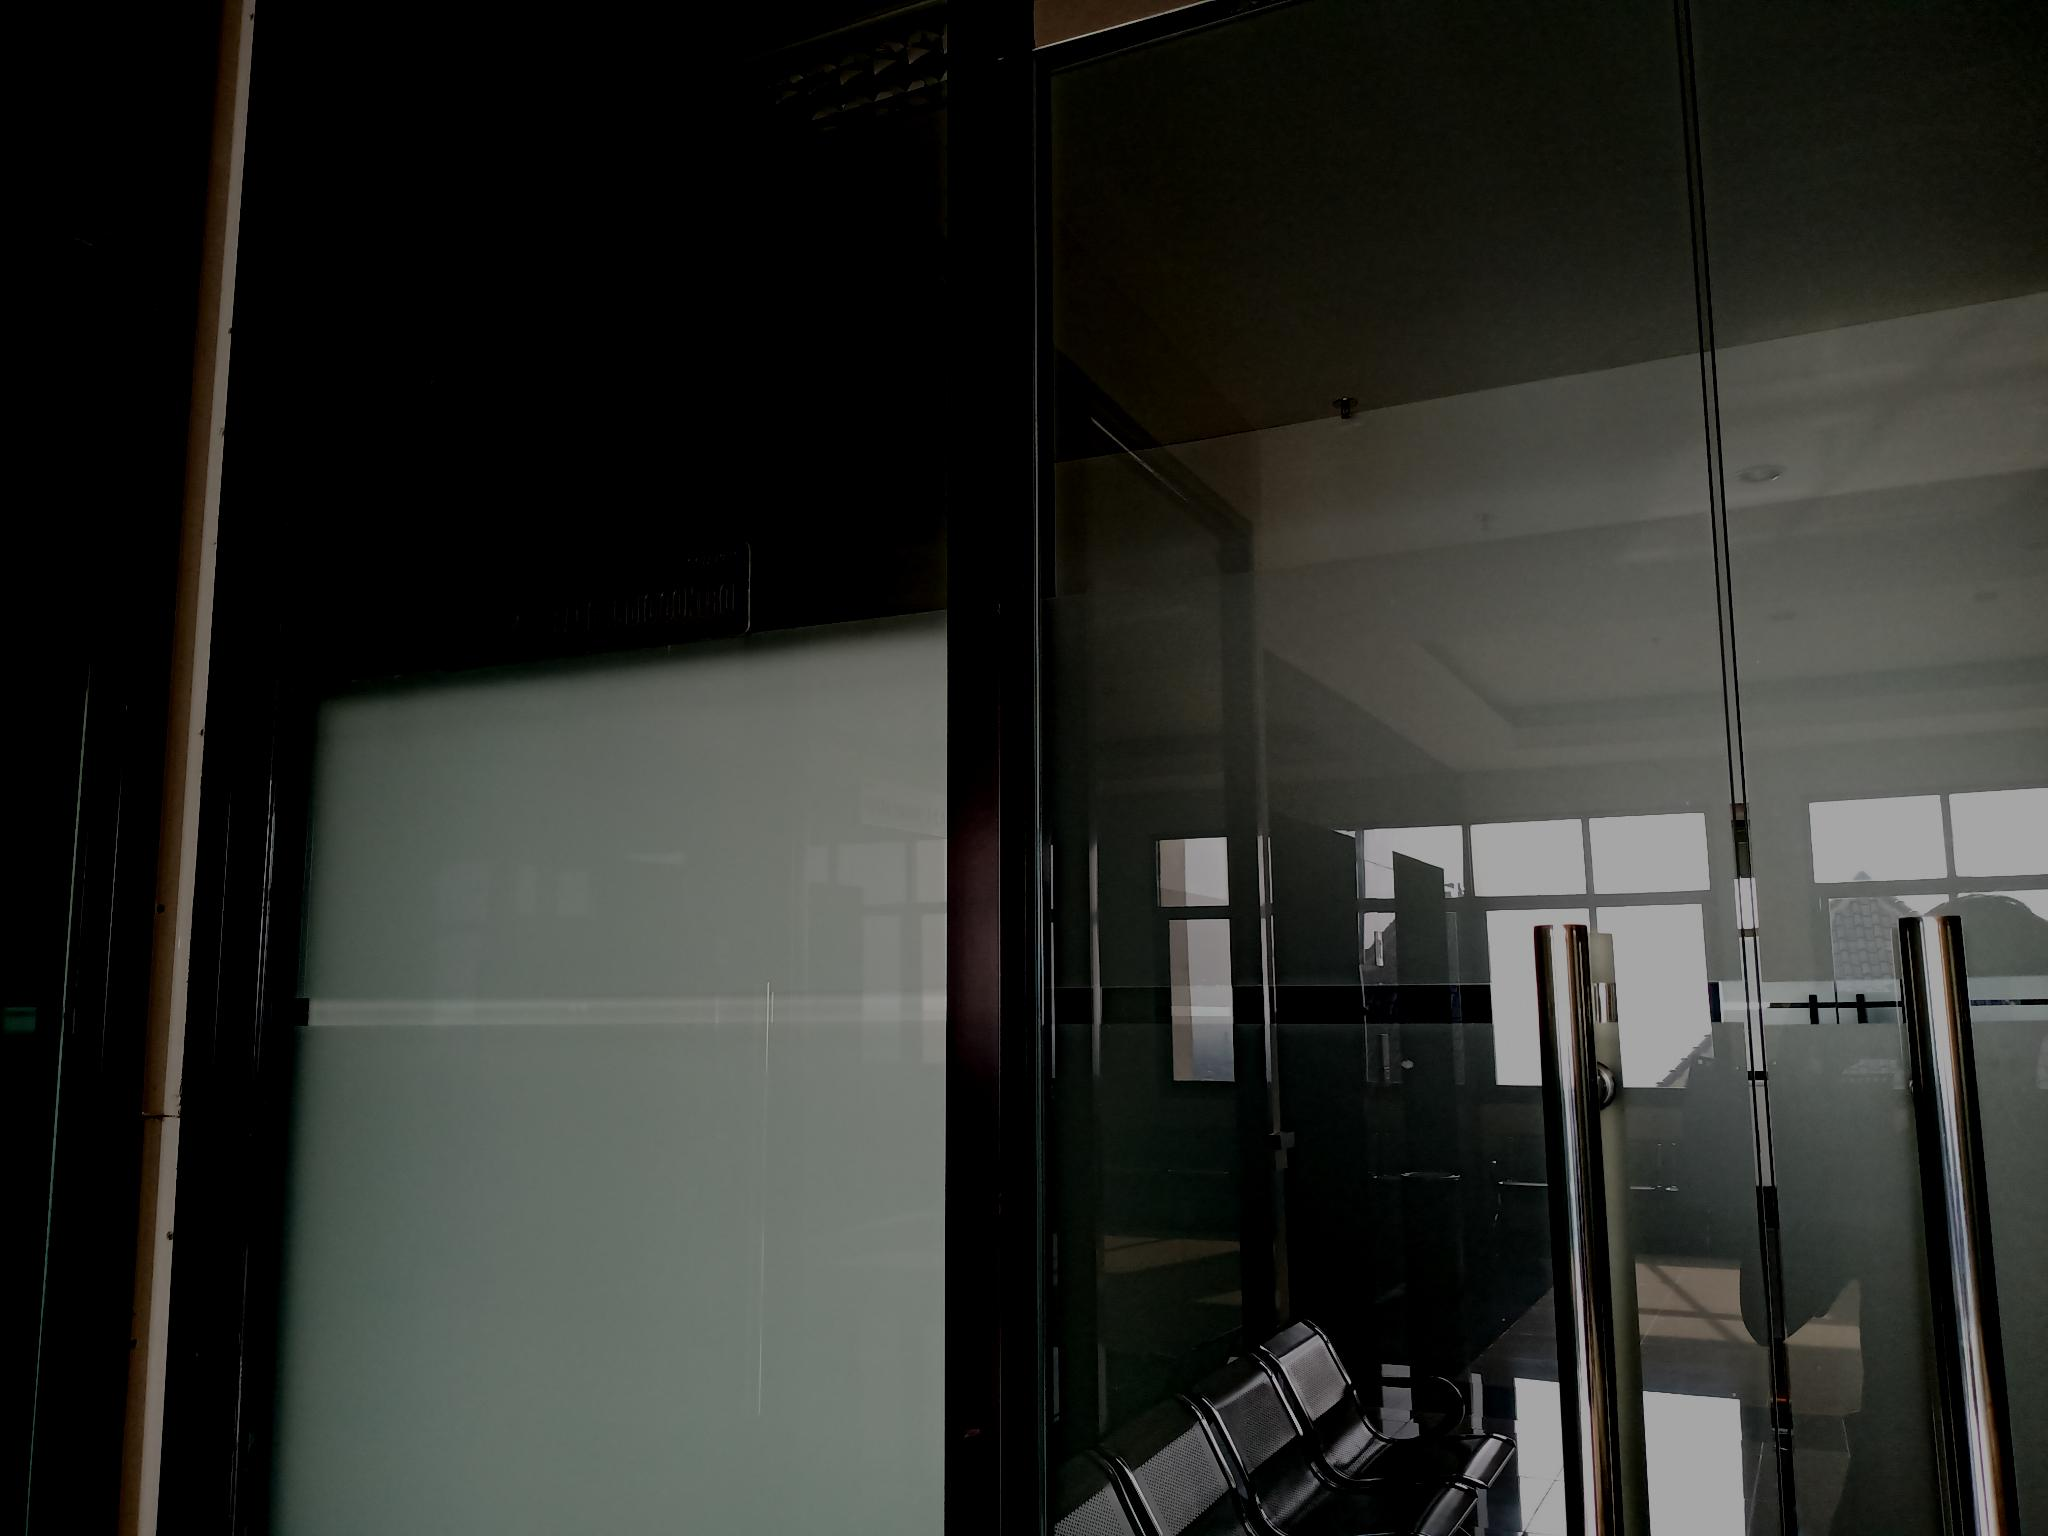plate: (437, 535, 752, 670)
